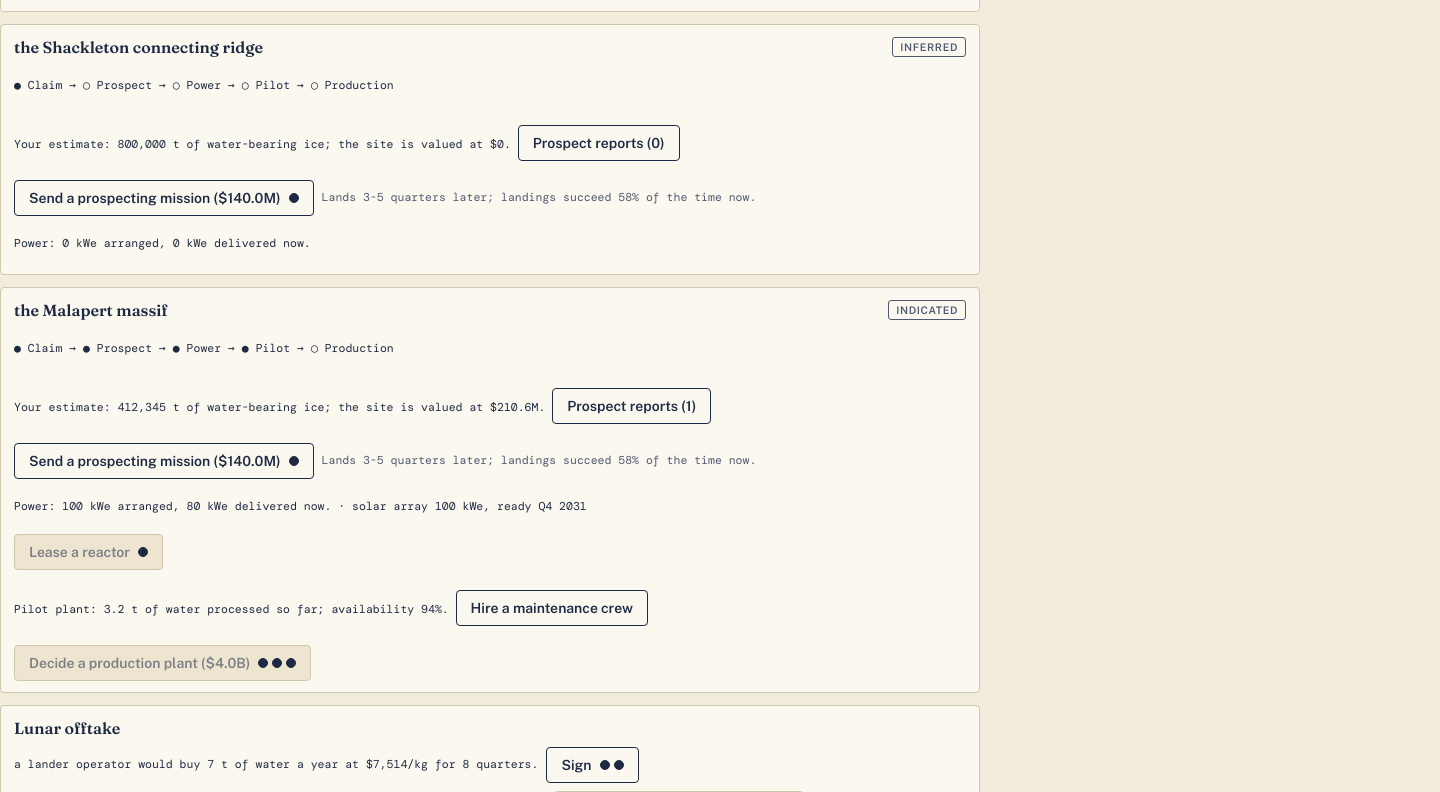
Test case: Act IV Moon screen (M30.5) › A4-07: the prospect report modal lists the reports with their bands and category
(page scrolled)
Click the button "Prospect reports (1)": coordinates (632, 406) top-left (552, 388), bottom-right (711, 424)
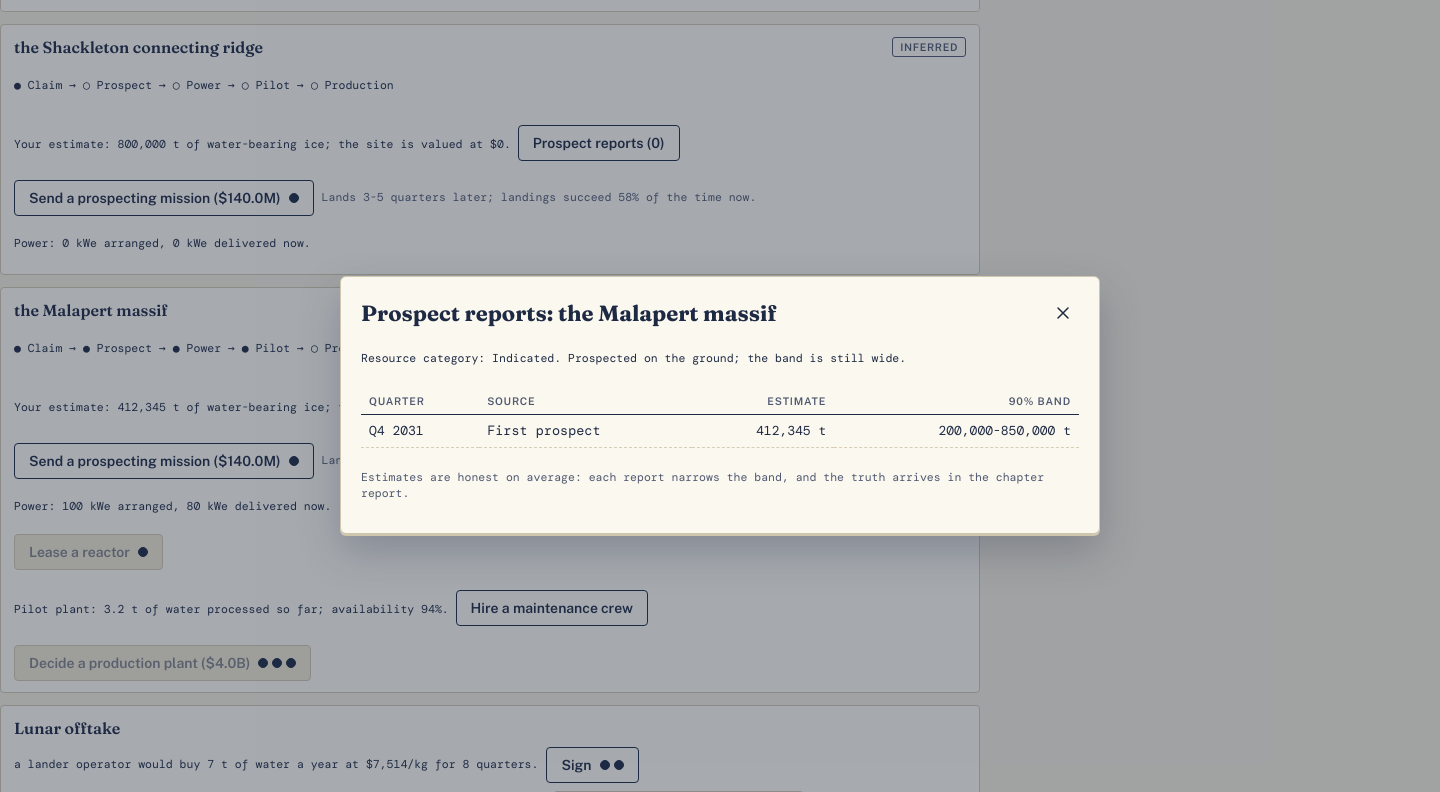
Expected: the dialog shows "Indicated", top-left (361, 350), bottom-right (561, 366)
Expected: the dialog shows "200,000-850,000 t", top-left (938, 422), bottom-right (1071, 439)
